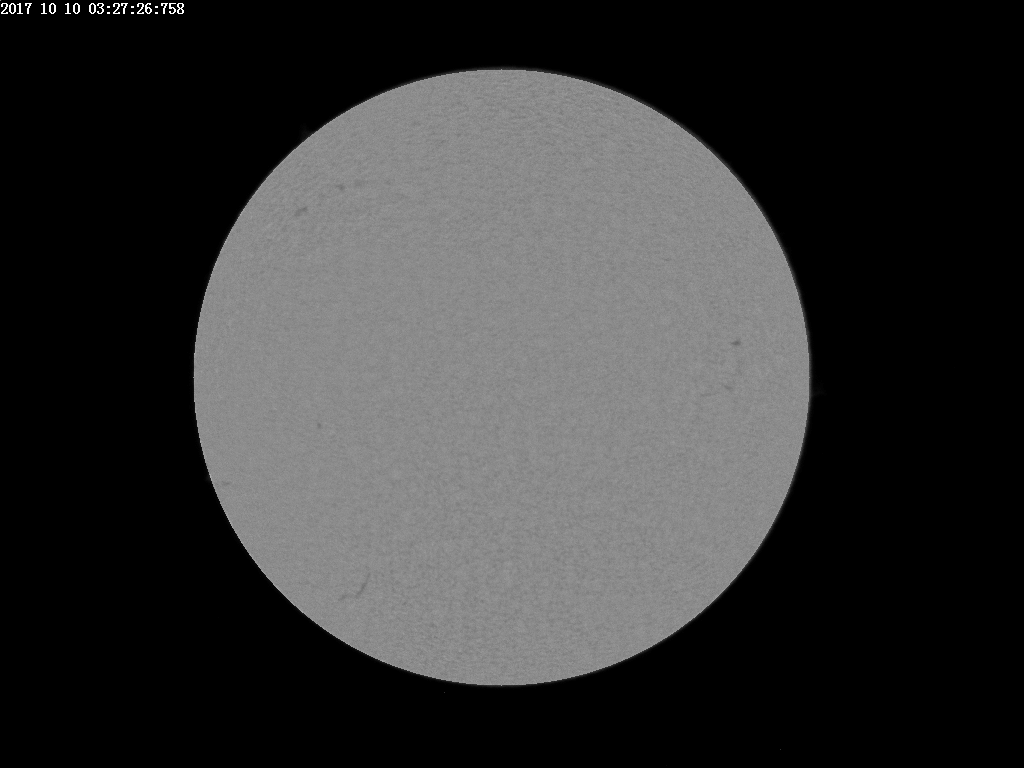filament: (692, 321, 749, 399), (332, 558, 383, 609), (330, 170, 402, 201), (286, 193, 318, 228), (307, 412, 324, 435), (217, 470, 237, 488)
